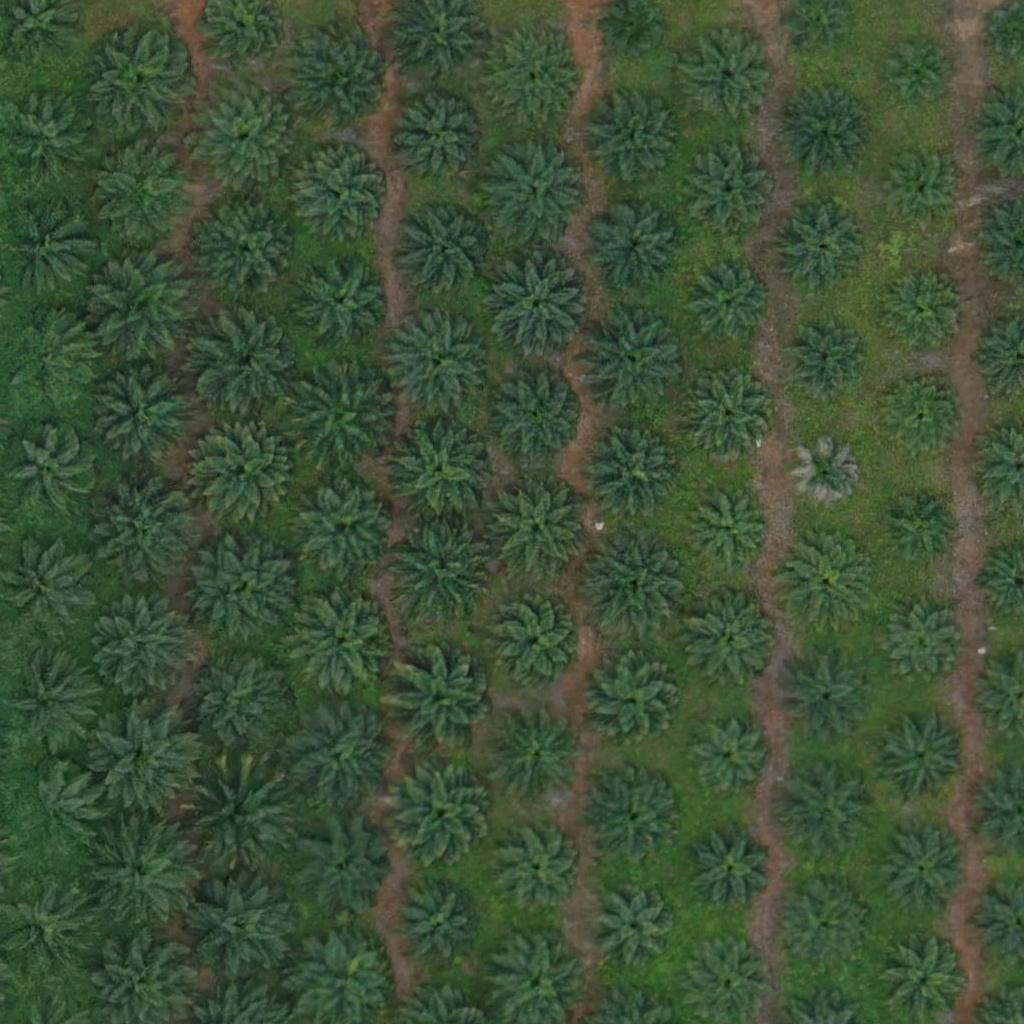Kelapa_Sawit: (189, 81, 302, 195), (193, 193, 306, 307), (290, 357, 403, 471), (382, 414, 495, 528), (390, 513, 503, 627), (88, 588, 201, 701), (577, 304, 690, 417), (384, 645, 497, 758), (386, 755, 499, 868), (185, 868, 298, 981), (90, 702, 203, 815), (81, 815, 194, 928), (380, 307, 492, 421), (577, 529, 689, 643), (91, 251, 203, 364), (89, 359, 201, 472), (193, 308, 305, 421), (192, 532, 304, 645), (484, 248, 596, 361), (183, 648, 295, 761), (182, 763, 294, 876), (97, 483, 197, 584), (195, 419, 295, 520), (292, 33, 392, 134), (297, 476, 397, 577), (393, 92, 493, 193), (395, 198, 495, 299), (486, 30, 586, 131), (488, 136, 588, 237), (582, 88, 682, 189), (585, 196, 685, 297), (583, 420, 683, 521), (679, 26, 779, 127), (781, 529, 881, 630), (869, 594, 969, 695), (869, 704, 969, 805), (775, 644, 875, 745), (486, 704, 586, 805), (290, 591, 390, 692), (287, 703, 387, 804), (296, 819, 396, 920), (2, 649, 102, 750), (88, 33, 188, 133), (101, 143, 201, 243), (292, 142, 392, 242), (295, 253, 395, 353), (487, 364, 587, 464), (489, 481, 589, 581), (778, 760, 878, 860), (683, 588, 783, 688), (582, 650, 682, 750), (586, 766, 686, 866), (486, 591, 586, 691), (687, 150, 775, 239), (877, 374, 965, 463), (878, 481, 966, 569), (6, 208, 94, 296), (781, 93, 869, 181), (778, 206, 866, 294), (880, 272, 968, 360), (686, 717, 774, 805), (395, 881, 483, 969), (11, 766, 99, 854), (11, 98, 98, 186), (10, 312, 97, 400), (5, 426, 92, 514), (6, 542, 93, 630), (684, 264, 771, 352), (687, 374, 774, 462), (878, 828, 965, 916), (781, 888, 868, 976), (593, 880, 680, 968), (495, 824, 582, 912), (693, 491, 768, 567), (695, 834, 770, 910), (693, 945, 768, 1021), (883, 156, 958, 231), (787, 324, 862, 399), (789, 438, 864, 513), (885, 36, 948, 99)
